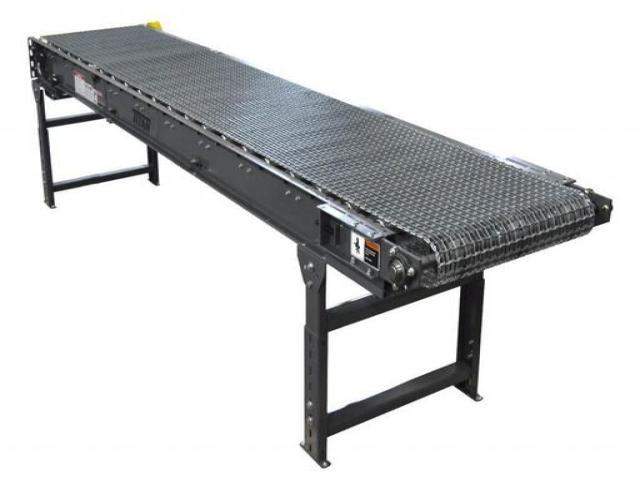conveyor: (24, 19, 614, 298)
